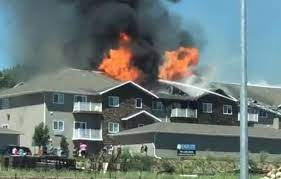smoke: (5, 1, 203, 80)
